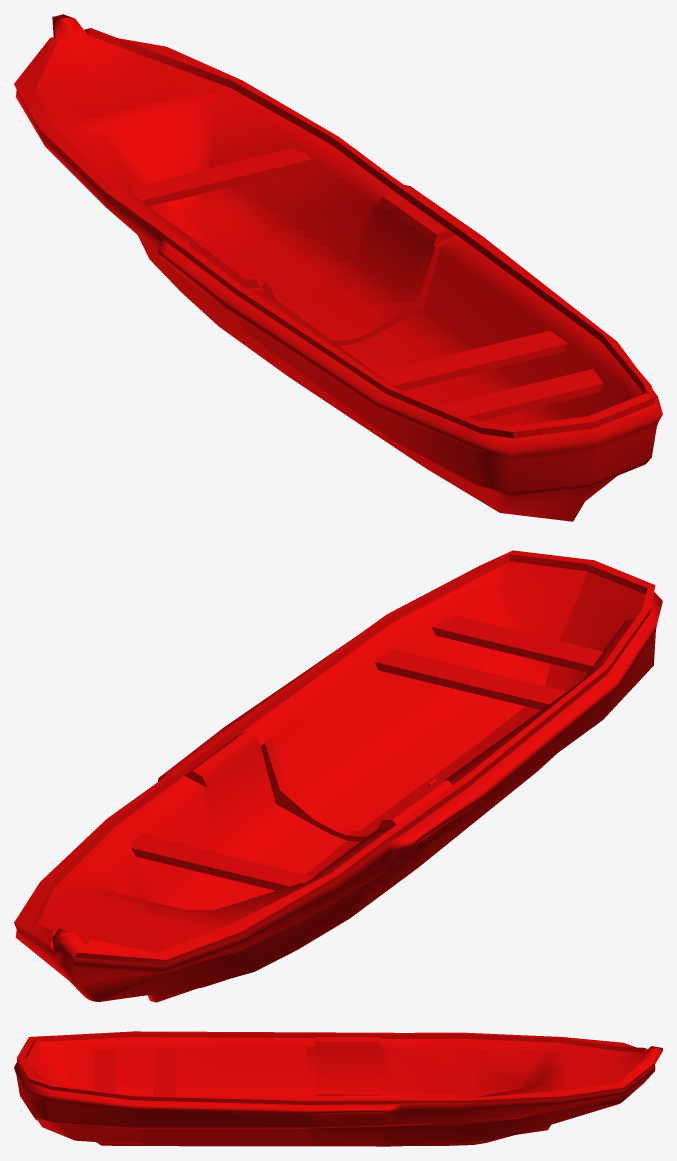
The model's file is Boat_01_Lod0.fbx.
3 views of the same model, one above another, from view 1: azimuth 30°, elevation 25°; view 2: azimuth 150°, elevation 25°; view 3: azimuth 270°, elevation 25° (orthographic). The views are drawn at different scales.
Visible parts, largest first — view 1: Boat_01_Lod0; view 2: Boat_01_Lod0; view 3: Boat_01_Lod0.
Part boxes in pixels (<box>): Boat_01_Lod0: <box>14,14,662,521</box>; Boat_01_Lod0: <box>14,550,662,1002</box>; Boat_01_Lod0: <box>14,1031,662,1146</box>.
Bounding box in the file's own units: 234 × 133 × 829.
